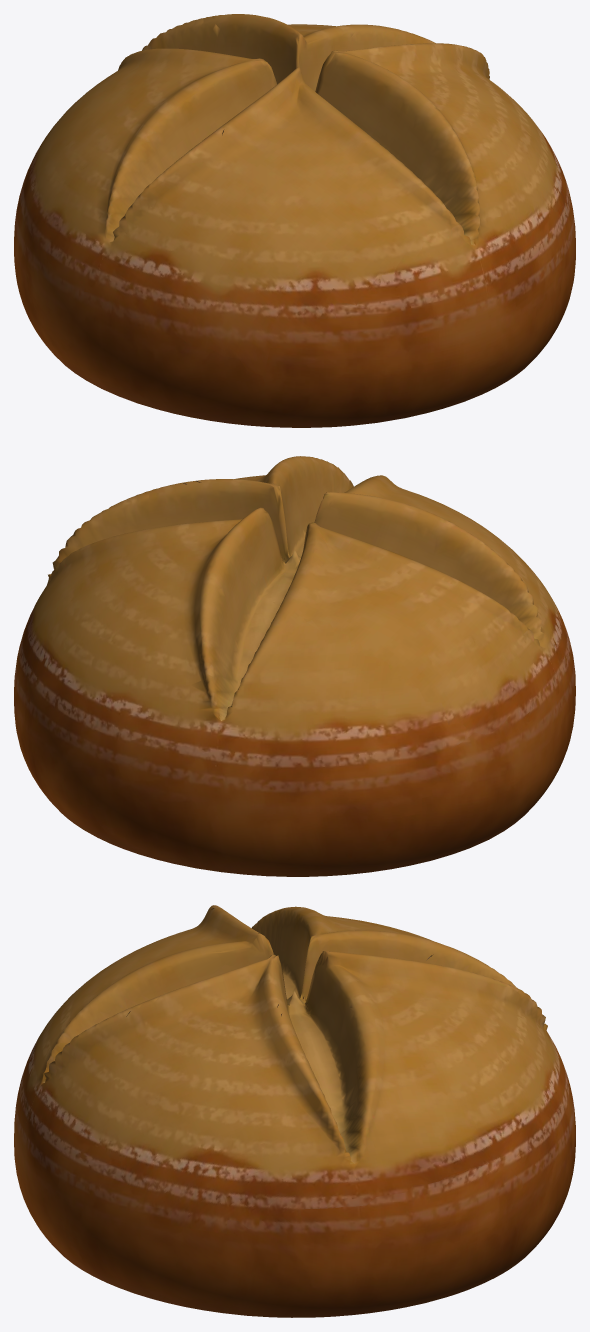
The model's file is campagne--honey-jam.glb.
3 views of the same model, one above another, from view 1: azimuth 30°, elevation 25°; view 2: azimuth 150°, elevation 25°; view 3: azimuth 270°, elevation 25° (orthographic).
Parts seen in each view (by area): view 1: campagne_honey-jam; view 2: campagne_honey-jam; view 3: campagne_honey-jam.
Part boxes in pixels (x1,y1,x2,y2): campagne_honey-jam: [14, 14, 575, 427]; campagne_honey-jam: [14, 456, 575, 876]; campagne_honey-jam: [14, 905, 575, 1317].
Bounding box in the file's own units: 0.9987 × 0.5303 × 0.9991.
1 material, 1 textured.
